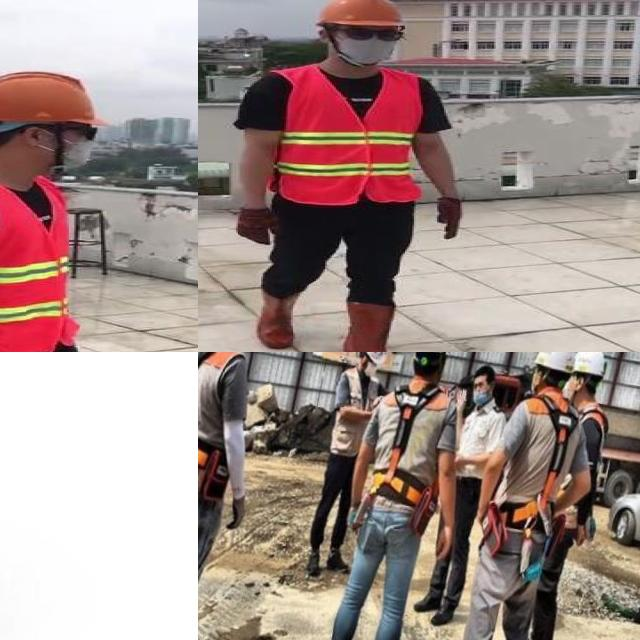Harness: (512, 395, 579, 534), (370, 386, 441, 508)
boots: (342, 301, 412, 352), (259, 287, 297, 350)
face_mask: (35, 119, 101, 175), (331, 21, 399, 64)
glasses: (336, 20, 406, 45)
hand_glove: (230, 209, 280, 245), (437, 198, 460, 240)
head_helmet: (0, 66, 101, 129), (317, 0, 407, 28)
person: (216, 0, 470, 352), (0, 62, 179, 352)
vest: (279, 68, 423, 204), (0, 169, 74, 352)
